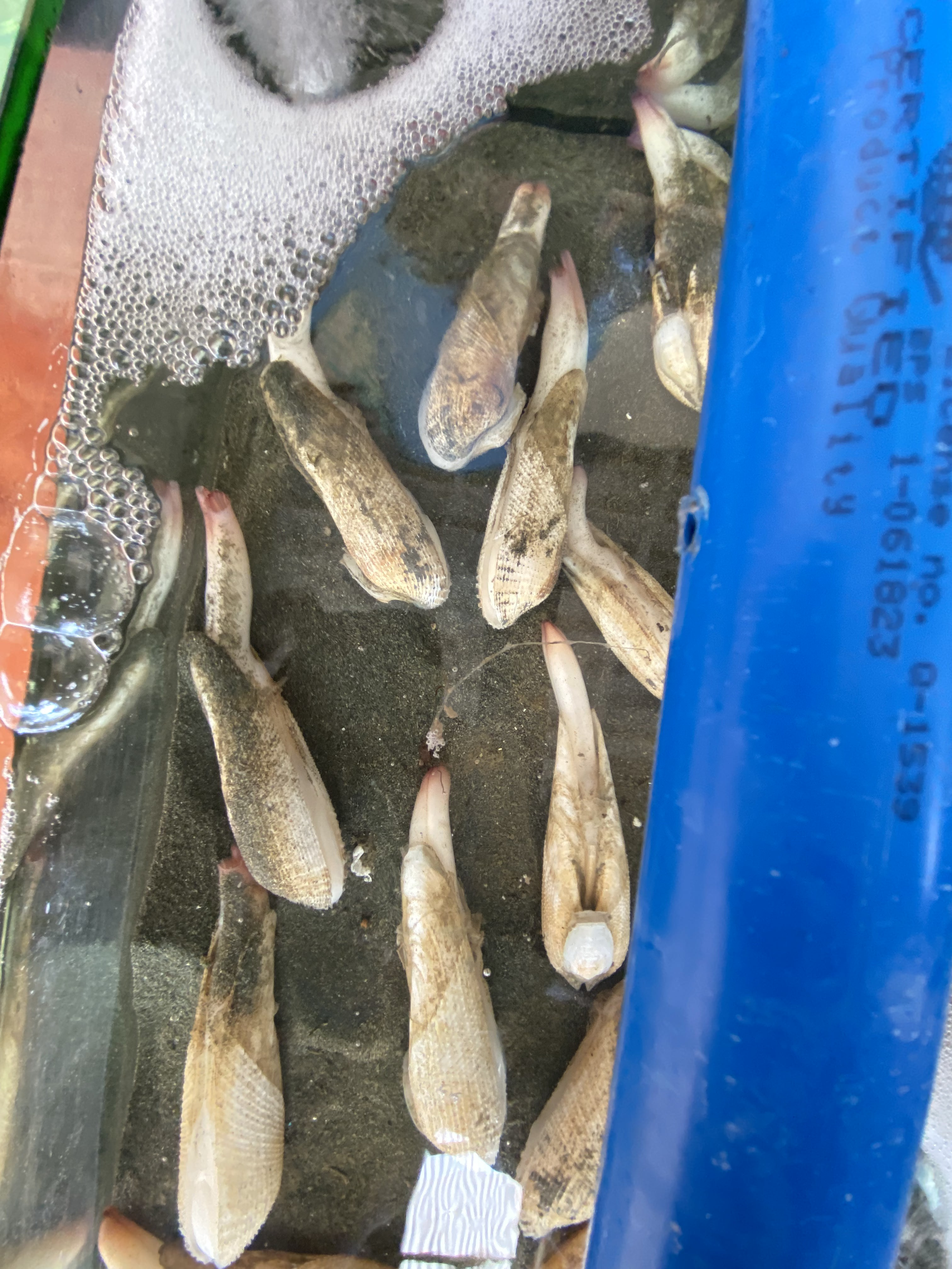Healthy: (187, 487, 343, 907), (260, 303, 450, 609), (398, 766, 506, 1163), (178, 861, 283, 1269), (477, 251, 588, 629), (418, 182, 551, 470), (537, 622, 630, 988), (634, 96, 730, 410), (563, 467, 673, 697)
